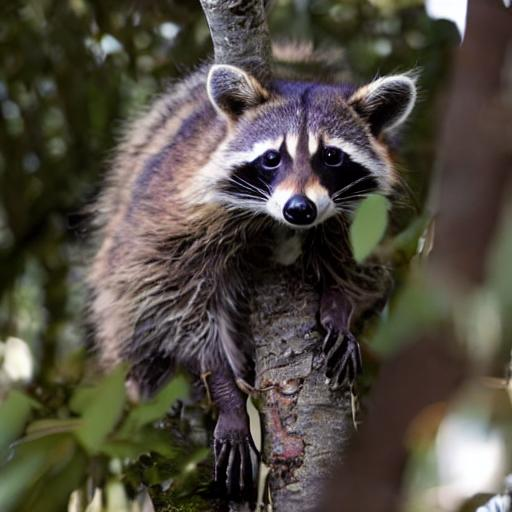raccoon: (71, 58, 426, 385)
